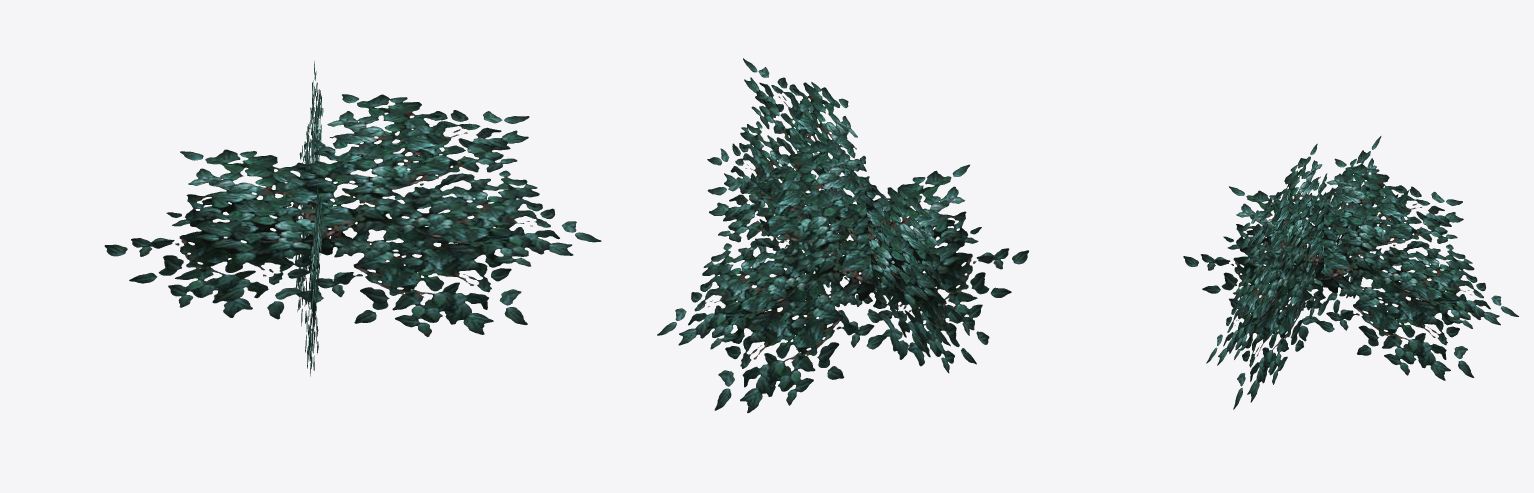
File: shrb_dath_greybush_sm_l2.fbx
3 views of the same model, side by side, from view 1: azimuth 30°, elevation 25°; view 2: azimuth 150°, elevation 25°; view 3: azimuth 270°, elevation 25° (orthographic). The views are drawn at different scales.
Parts seen in each view (by area): view 1: mesh_node; view 2: mesh_node; view 3: mesh_node.
Part boxes in pixels (x1=…): mesh_node: x1=104, y1=61, x2=601, y2=376; mesh_node: x1=657, y1=58, x2=1028, y2=412; mesh_node: x1=1183, y1=136, x2=1518, y2=409.
Bounding box in the file's own units: 3.44 × 2.28 × 2.79.
